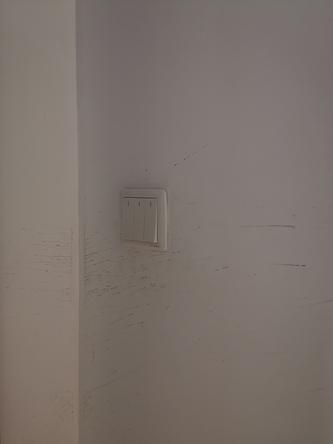switch: (143, 196, 161, 247), (123, 194, 136, 241), (133, 195, 146, 242)
